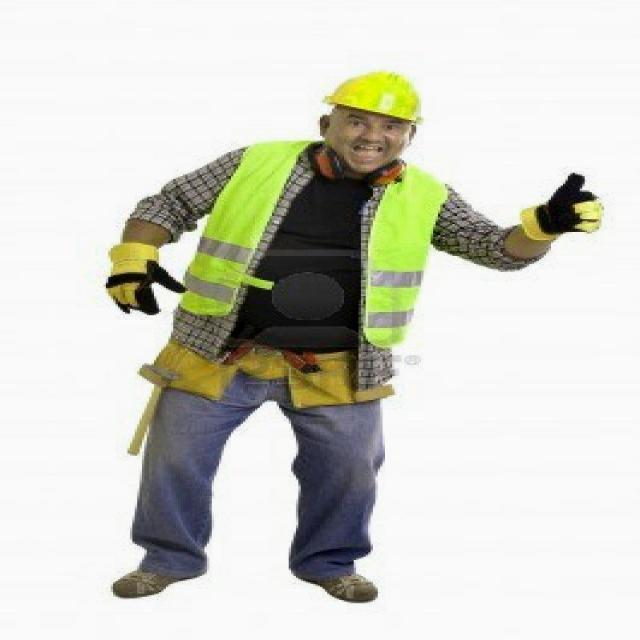face_nomask: (330, 109, 412, 178)
hand_glove: (92, 222, 184, 322), (531, 162, 610, 254)
head_helmet: (310, 64, 442, 123)
person: (88, 47, 484, 603)
vest: (196, 148, 412, 342)
